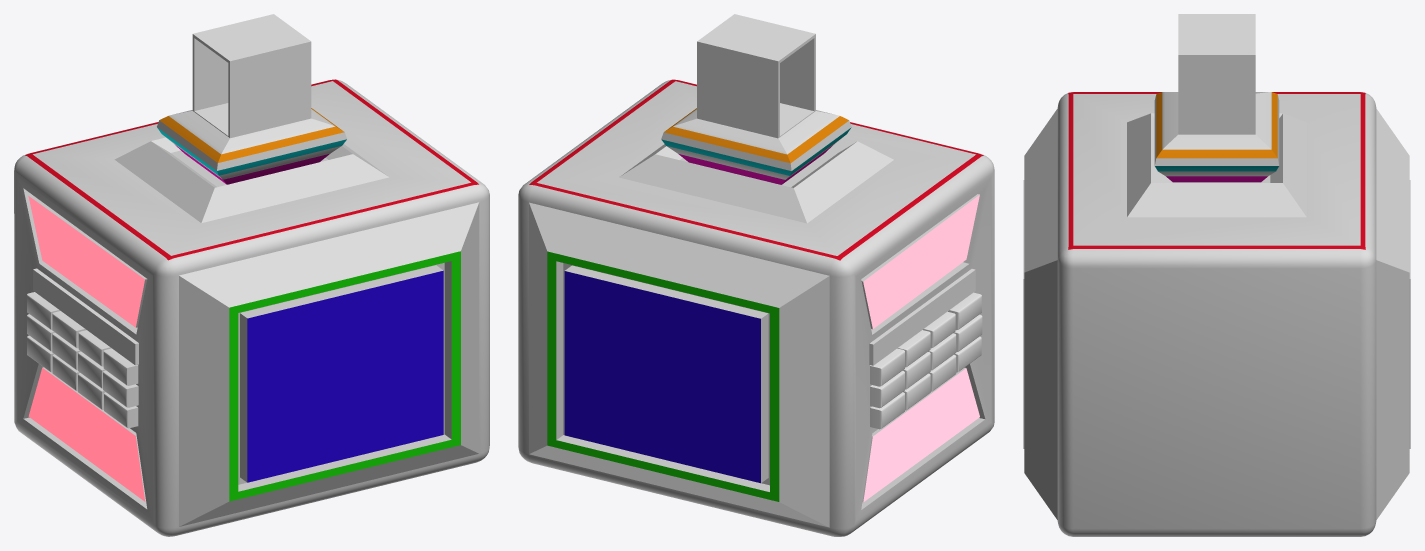
File: Coffre.fbx
The picture shows the model from 3 angles, left to right: view 1: azimuth 30°, elevation 25°; view 2: azimuth 150°, elevation 25°; view 3: azimuth 270°, elevation 25°; orthographic projection. The views are drawn at different scales.
Parts seen in each view (by area): view 1: coffre, cubeCoffreLevite, coffreEmmision, EmmisonCoffreCode, BoutonCoffre4, coffre.005, coffre.006, BoutonCoffre2, BoutonCoffre1, BoutonCoffre3, bouiton.001, coffre.010 (+4 smaller); view 2: coffre, cubeCoffreLevite, coffreEmmision, EmmisonCoffreCode, BoutonCoffre1, coffre.010, coffre.009, BoutonCoffre4, BoutonCoffre2, BoutonCoffre3, coffre.005, coffre.004 (+3 smaller); view 3: coffre, cubeCoffreLevite.
Boxes of the visible parts, <box> form: coffre: <box>14,79,489,536</box>; cubeCoffreLevite: <box>192,14,311,138</box>; coffreEmmision: <box>28,196,145,501</box>; EmmisonCoffreCode: <box>33,268,138,365</box>; BoutonCoffre4: <box>103,348,138,385</box>; coffre.005: <box>103,370,138,407</box>; coffre.006: <box>104,392,138,428</box>; BoutonCoffre2: <box>52,311,86,348</box>; BoutonCoffre1: <box>27,292,60,329</box>; BoutonCoffre3: <box>78,330,111,366</box>; bouiton.001: <box>52,332,80,370</box>; coffre.010: <box>27,314,54,351</box>; coffre: <box>518,79,994,536</box>; cubeCoffreLevite: <box>697,14,815,138</box>; coffreEmmision: <box>863,195,979,502</box>; EmmisonCoffreCode: <box>869,269,975,365</box>; BoutonCoffre1: <box>870,348,904,386</box>; coffre.010: <box>870,370,904,408</box>; coffre.009: <box>870,392,904,429</box>; BoutonCoffre4: <box>948,292,981,330</box>; BoutonCoffre2: <box>897,330,930,367</box>; BoutonCoffre3: <box>923,311,955,348</box>; coffre.005: <box>953,314,982,351</box>; coffre.004: <box>928,333,956,370</box>; coffre: <box>1023,92,1410,536</box>; cubeCoffreLevite: <box>1178,14,1255,134</box>.
Size of the model in its own units: 95.82 by 110 by 90.56.
